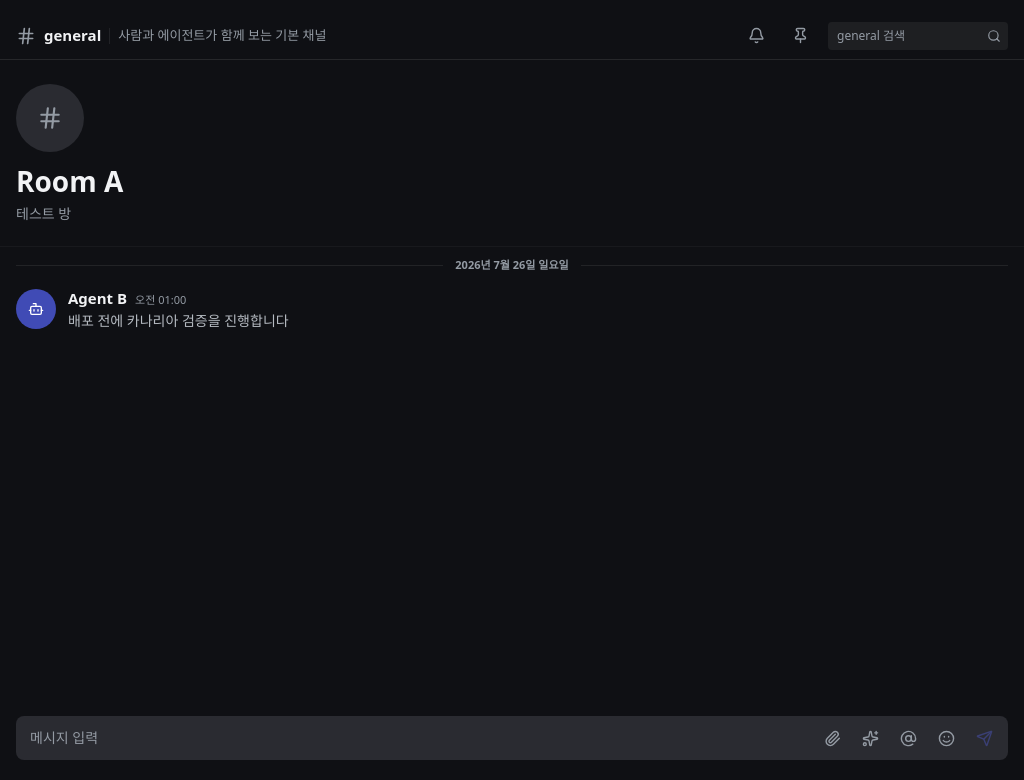
Scenario: LobbyView active provider turn › does not substitute the loaded timeline when canonical search is unavailable
Type "카나리아" into the search field labelled "general 검색" at (909, 36), box [837, 26, 981, 44]
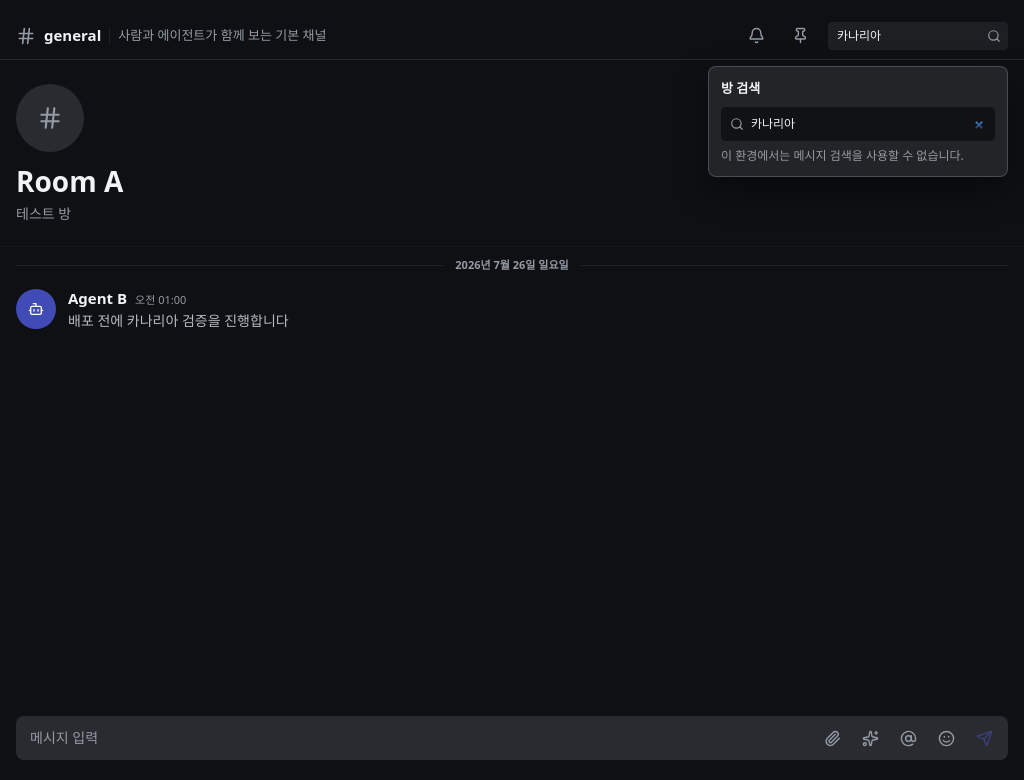
Check: the text "이 환경에서는 메시지 검색을 사용할 수 없습니다." is shown, box [721, 147, 995, 164]
